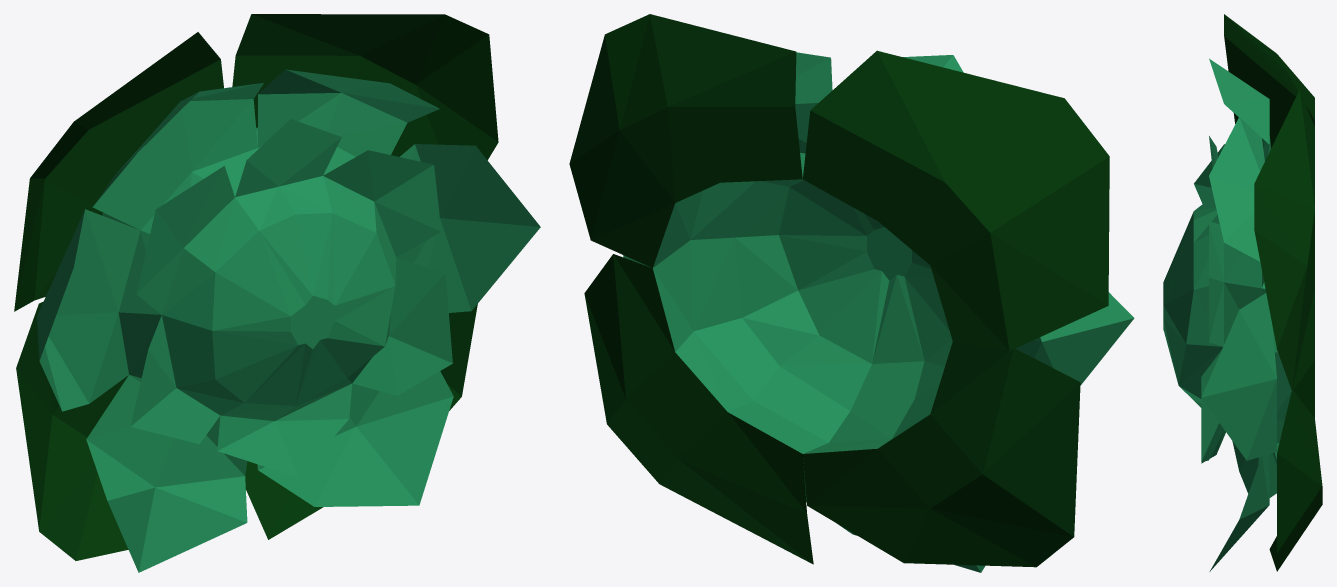
File: stage_1.obj
The picture shows the model from 3 angles, left to right: view 1: azimuth 30°, elevation 25°; view 2: azimuth 150°, elevation 25°; view 3: azimuth 270°, elevation 25°; orthographic projection. The views are drawn at different scales.
Visible parts, largest first — view 1: cabbage_green_stage1; view 2: cabbage_green_stage1; view 3: cabbage_green_stage1.
Boxes of the visible parts, <box> form: cabbage_green_stage1: <box>14,14,540,572</box>; cabbage_green_stage1: <box>569,14,1134,572</box>; cabbage_green_stage1: <box>1163,14,1322,571</box>.
Bounding box in the file's own units: 0.1725 × 0.17 × 0.0525.
